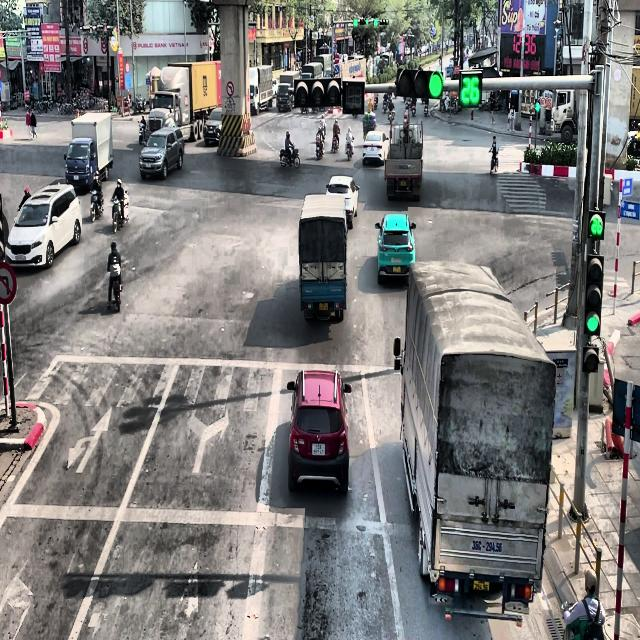lisence_plate: (470, 536, 503, 554), (471, 578, 490, 592), (311, 441, 326, 457), (317, 301, 329, 312), (393, 264, 401, 274), (400, 180, 407, 188), (398, 165, 409, 169), (370, 145, 376, 151)
